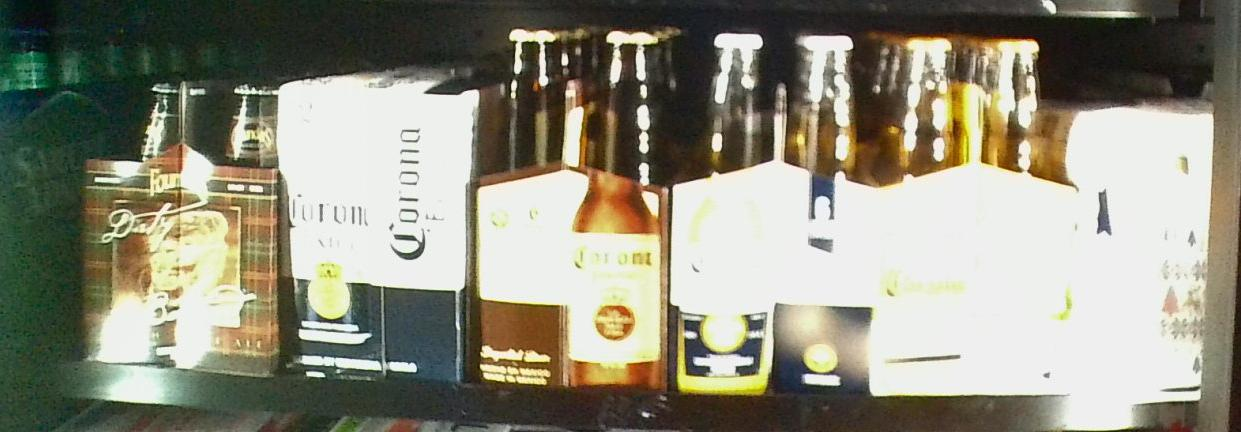bottle: (475, 26, 670, 396), (678, 29, 875, 394), (885, 30, 1070, 399), (81, 82, 281, 374), (279, 77, 467, 382), (1061, 109, 1212, 387)
